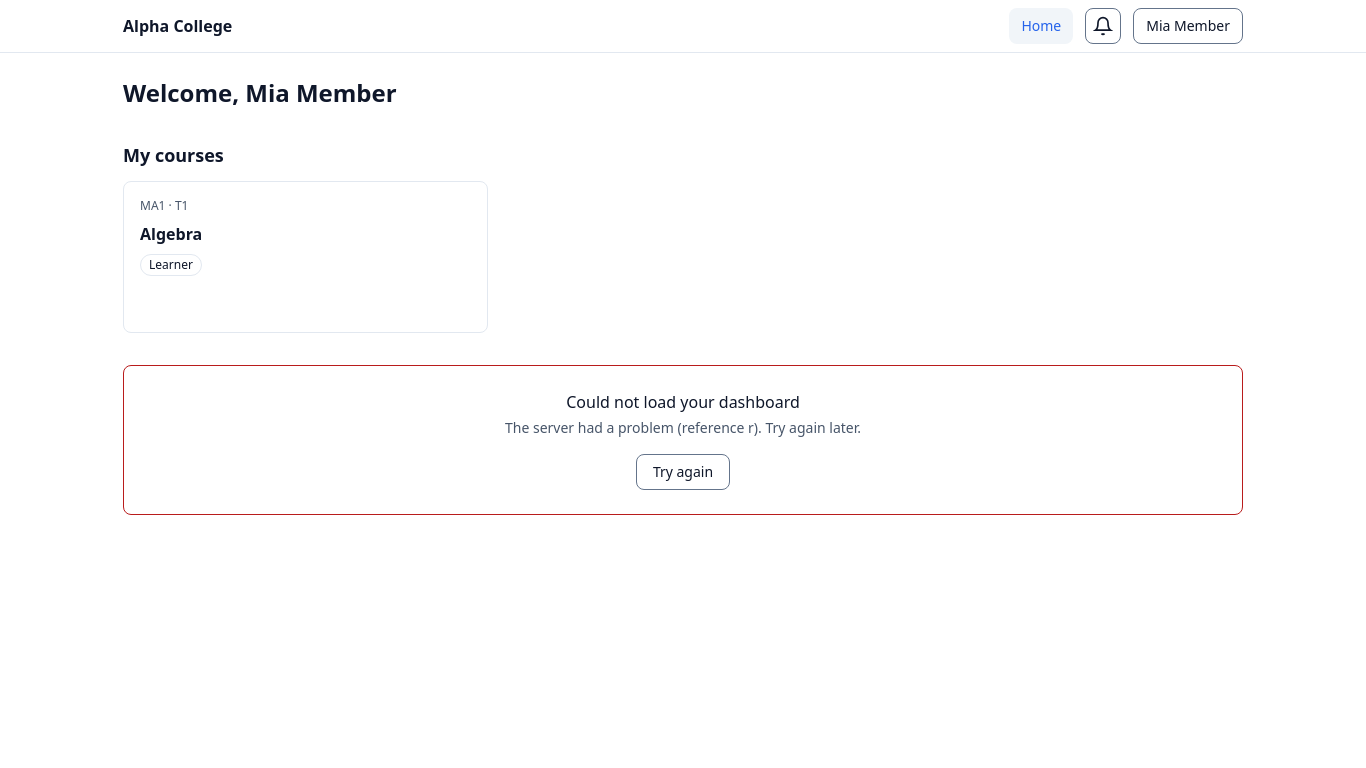
it: learner dashboard › shows an empty state and an error state with a retry
This screenshot has width=1366, height=768.
Expected: the text "Could not load your dashboard" is shown, [566, 391, 800, 413]
Click the button "Try again". click: (683,472)
box: [636, 454, 730, 490]
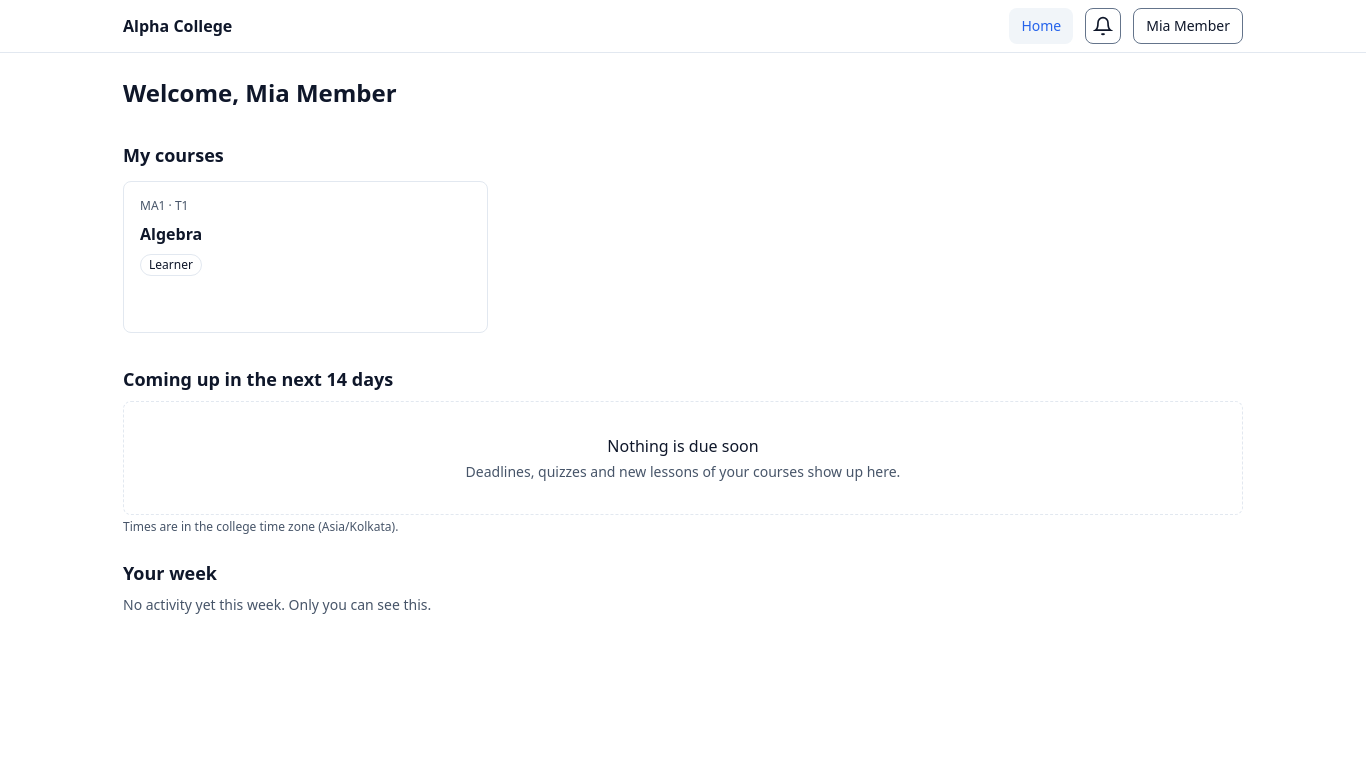
Expected: the text "Nothing is due soon" is shown, [607, 435, 759, 457]
